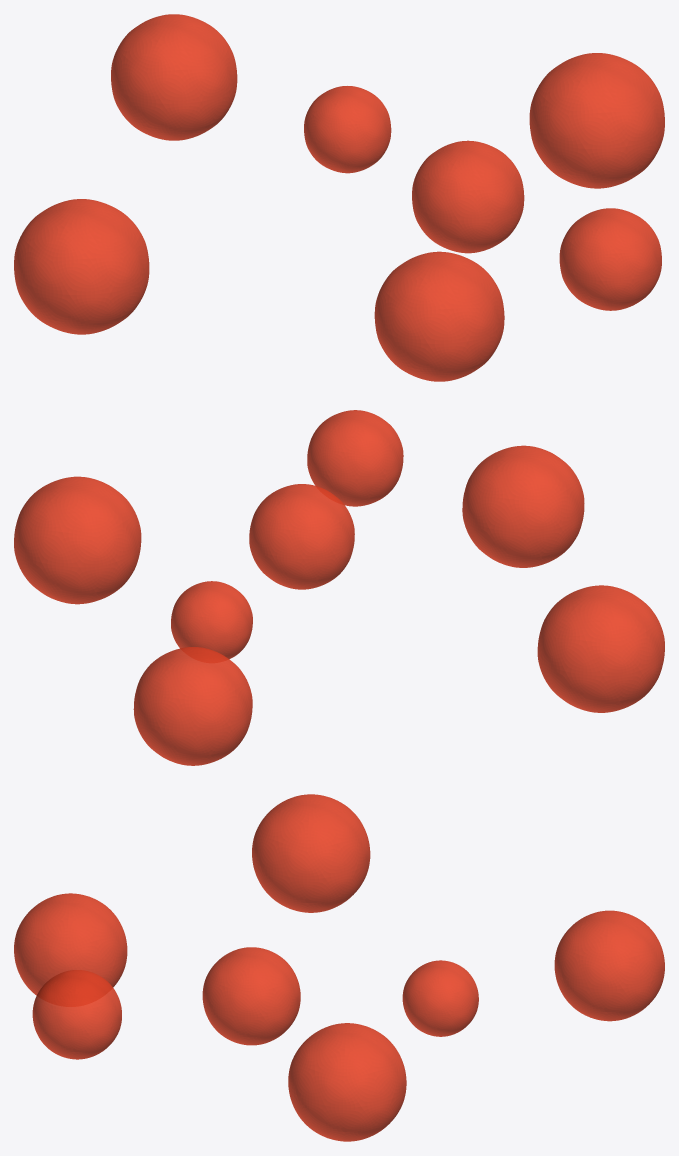
File: soupedWaterSky002_01.fbx
3 renders of one model, top to bottom at view 1: azimuth 30°, elevation 25°; view 2: azimuth 150°, elevation 25°; view 3: azimuth 270°, elevation 25°, orthographic. The views are drawn at different scales.
Visible parts, largest first — view 1: waterSky002.001; view 2: waterSky002.001; view 3: waterSky002.001.
Part boxes in pixels (left/top/right/bottom): waterSky002.001: left=14, top=14, right=664, bottom=381; waterSky002.001: left=14, top=410, right=664, bottom=765; waterSky002.001: left=14, top=794, right=664, bottom=1141.
Size of the model in its own units: 162 by 29.32 by 159.
